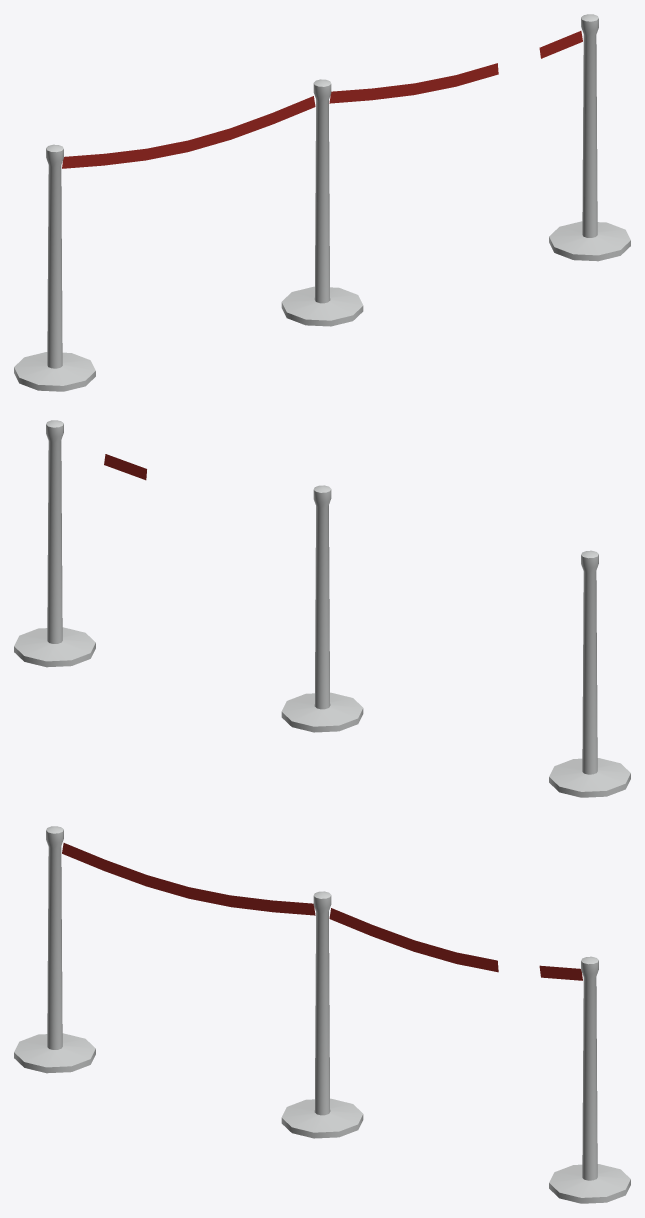
Rendered from queue_posts.glb.
The picture shows the model from 3 angles, top to bottom: view 1: azimuth 30°, elevation 25°; view 2: azimuth 150°, elevation 25°; view 3: azimuth 330°, elevation 25°; orthographic projection.
Parts seen in each view (by area): view 1: Queue; view 2: Queue; view 3: Queue.
Boxes of the visible parts, x1,y1,x2,y2 form: Queue: (14, 14, 630, 391); Queue: (14, 420, 630, 797); Queue: (14, 826, 630, 1203).
Size of the model in its own units: 2.72 by 0.98 by 0.3043.
